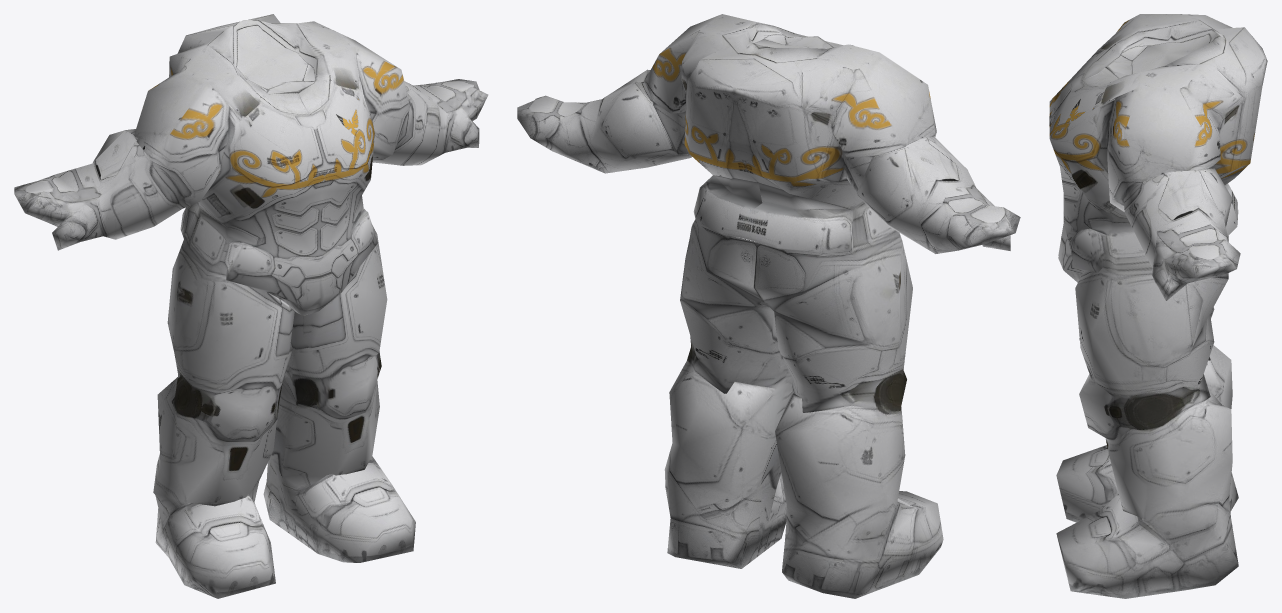
File: PowerArmorPrestige.glb
3 renders of one model, left to right at view 1: azimuth 30°, elevation 25°; view 2: azimuth 150°, elevation 25°; view 3: azimuth 270°, elevation 25°, orthographic. The views are drawn at different scales.
Visible parts, largest first — view 1: PowerArmorPrestige; view 2: PowerArmorPrestige; view 3: PowerArmorPrestige.
Boxes of the visible parts, x1,y1,x2,y2 form: PowerArmorPrestige: (14,14,488,598); PowerArmorPrestige: (517,14,1020,598); PowerArmorPrestige: (1049,14,1267,598).
Size of the model in its own units: 20.4 by 21.37 by 8.24.
Materials: 1 (1 with a texture image).
